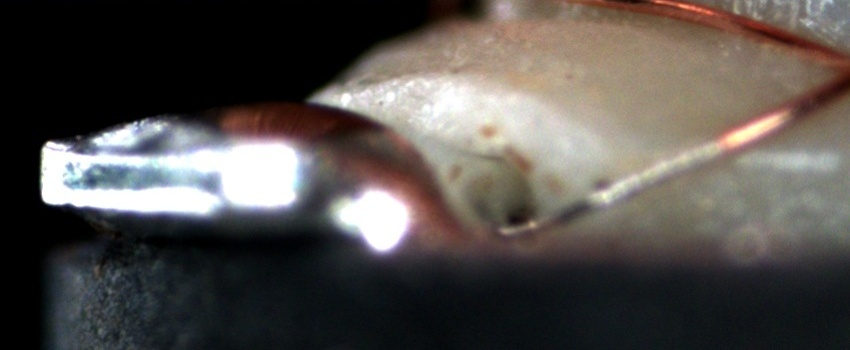DL: (731, 140, 849, 198)
TS: (497, 137, 730, 237)
